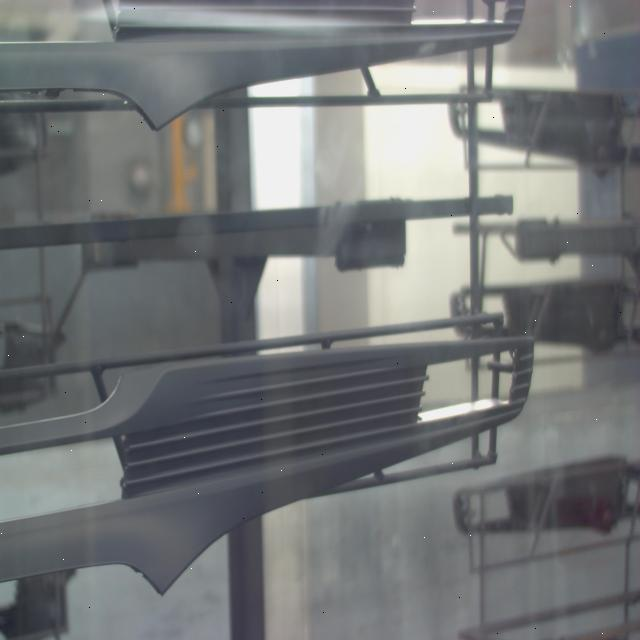Primered: (0, 304, 542, 603), (0, 5, 535, 142)
